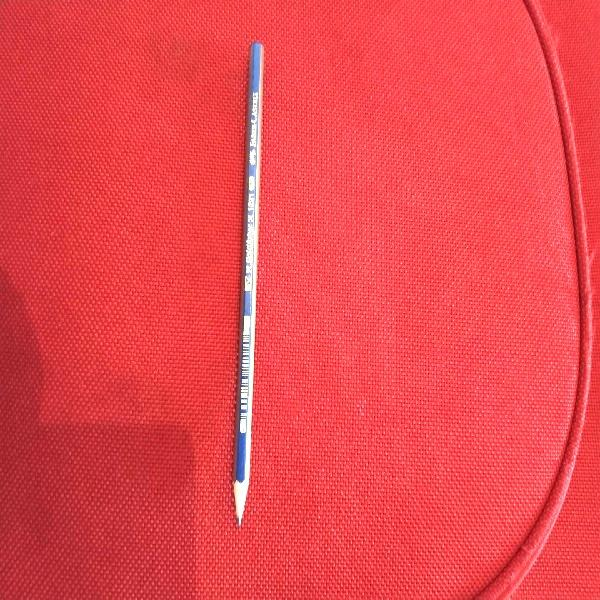pencil: (228, 33, 270, 533)
